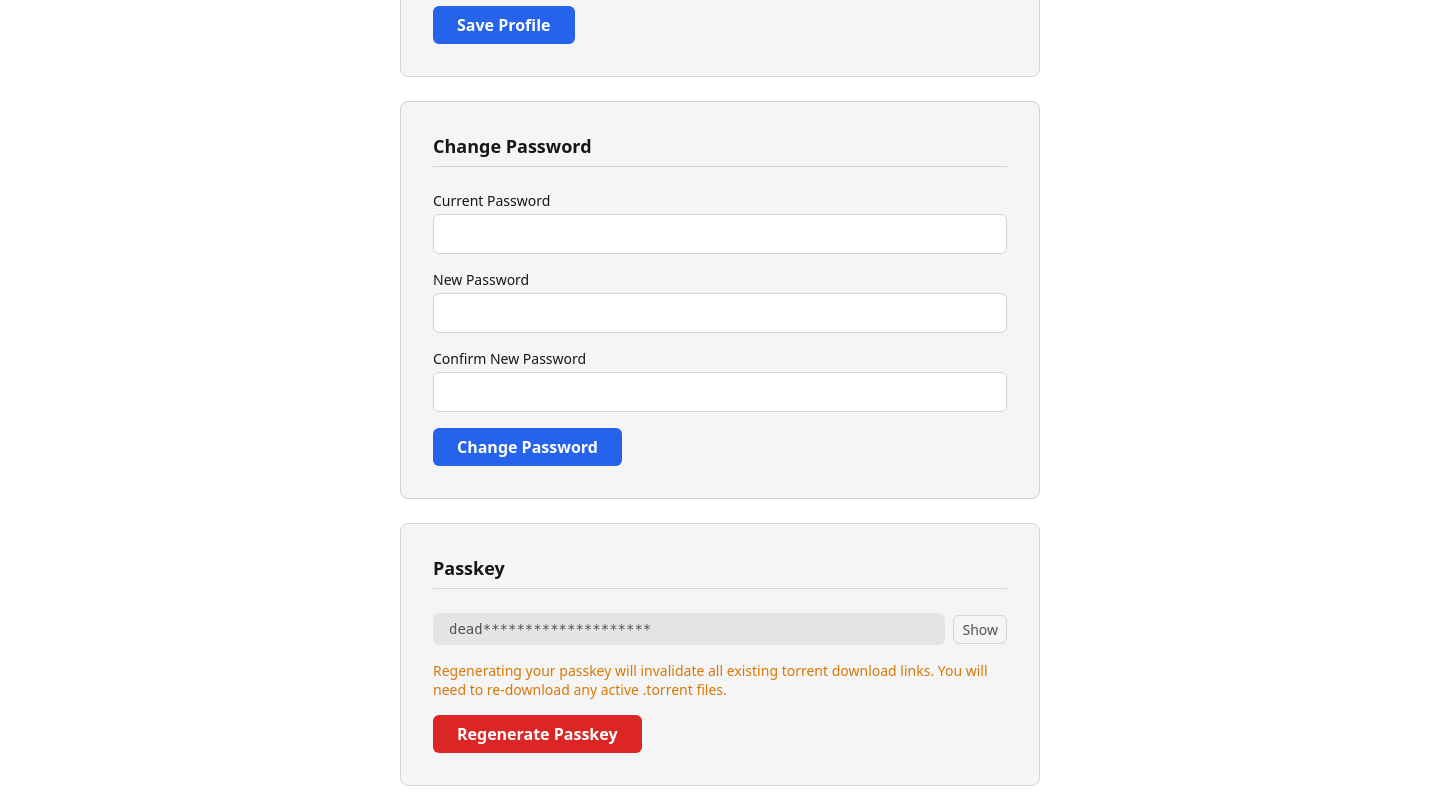
Test case: UserSettingsPage › opens passkey confirmation modal
The image size is (1440, 810).
(page scrolled)
Click the button "Regenerate Passkey" at (537, 734), box [433,715,642,753]
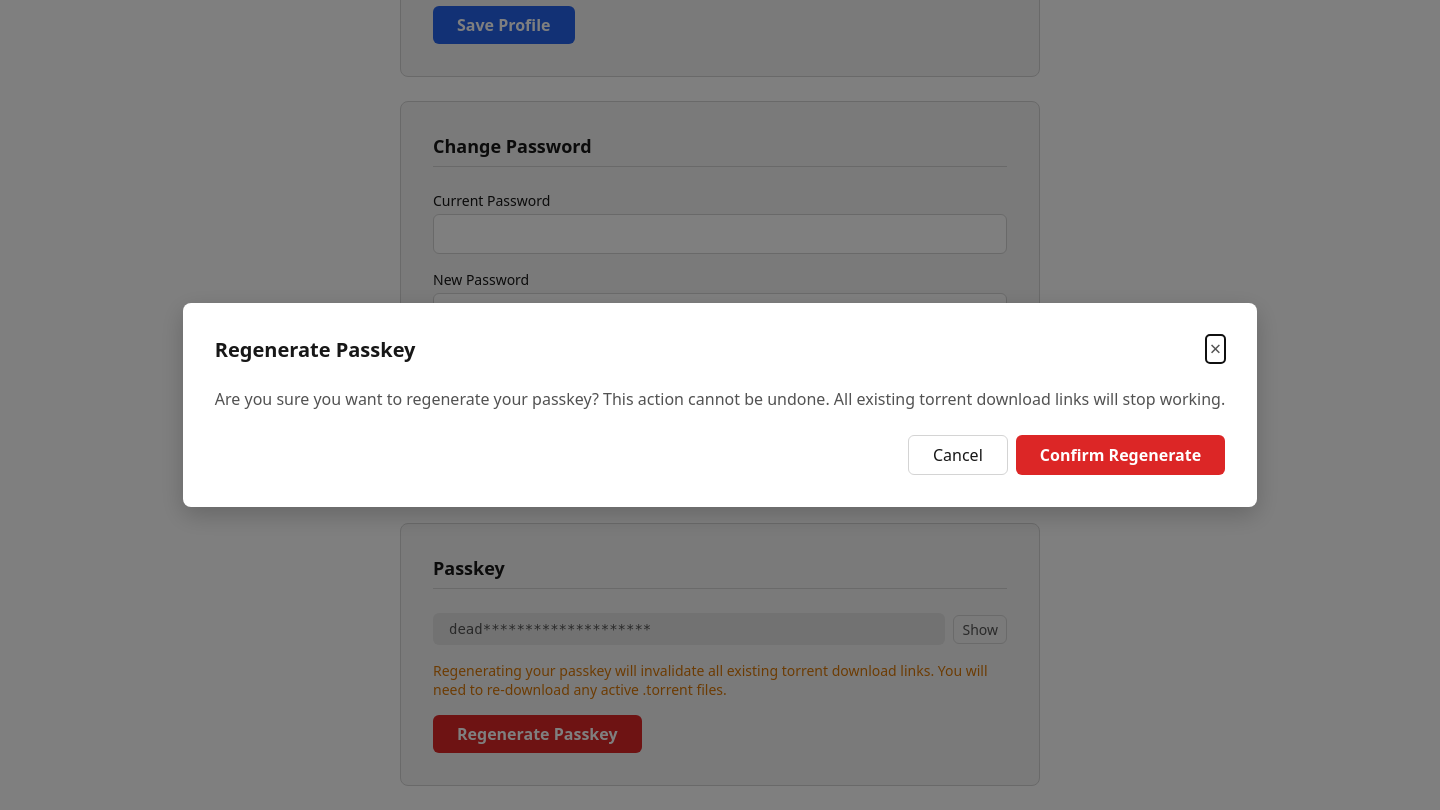
Expected: the text "Are you sure you want to regenerate your passkey" is shown, [215,388,1225,410]
Expected: the button "Confirm Regenerate" is shown, [1016,435,1225,475]
Expected: the button "Cancel" is shown, [908,435,1008,475]
